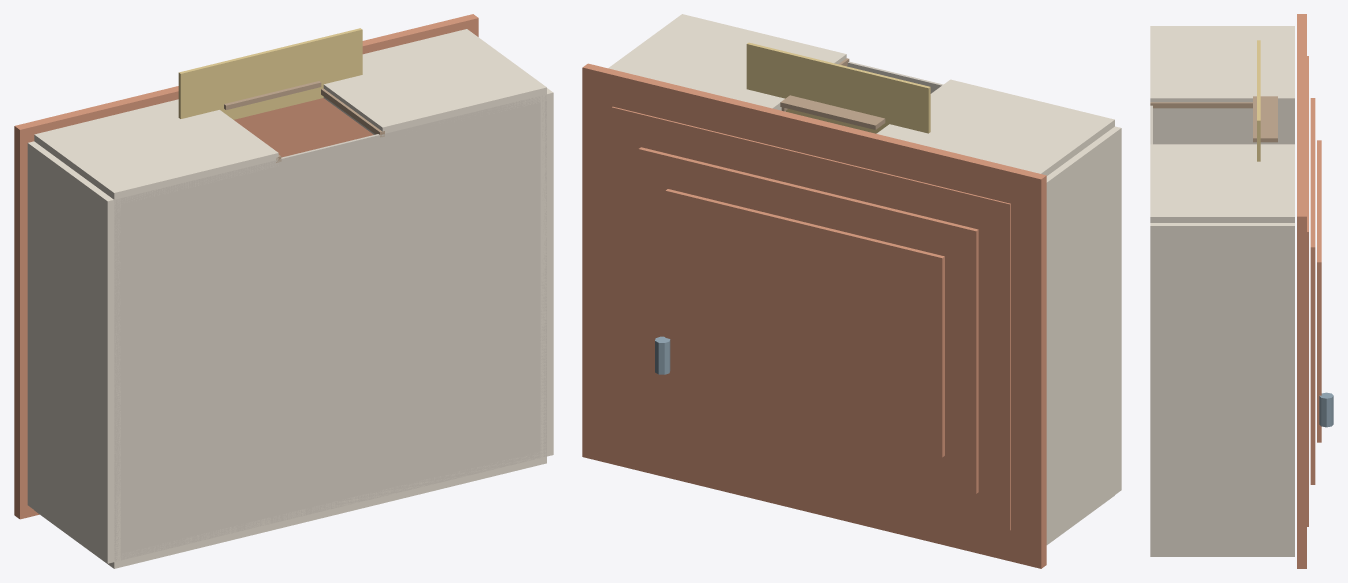
The model's file is building_noodle.glb.
3 renders of one model, left to right at view 1: azimuth 30°, elevation 25°; view 2: azimuth 150°, elevation 25°; view 3: azimuth 270°, elevation 25°, orthographic. The views are drawn at different scales.
Parts seen in each view (by area): view 1: building_noodle_floor, building_noodle_w, building_noodle_s_l, building_noodle_roof, building_noodle_s_r, building_noodle_awning, building_noodle_n, building_noodle_e, building_noodle_tile0, building_noodle_sign; view 2: building_noodle_tile3, building_noodle_roof, building_noodle_tile1, building_noodle_tile2, building_noodle_w, building_noodle_s_l, building_noodle_s_r, building_noodle_awning, building_noodle_tile0, building_noodle_sign; view 3: building_noodle_e, building_noodle_s_r, building_noodle_s_l, building_noodle_roof, building_noodle_w, building_noodle_tile2, building_noodle_tile3, building_noodle_tile0, building_noodle_sign, building_noodle_tile1, building_noodle_jamb_l, building_noodle_vent (+2 smaller).
Boxes of the visible parts, x1,y1,x2,y2 form: building_noodle_floor: [114, 95, 546, 561]; building_noodle_w: [27, 141, 120, 563]; building_noodle_s_l: [34, 99, 278, 204]; building_noodle_roof: [14, 14, 478, 519]; building_noodle_s_r: [323, 29, 546, 134]; building_noodle_awning: [178, 28, 362, 119]; building_noodle_n: [34, 451, 546, 568]; building_noodle_e: [540, 88, 553, 457]; building_noodle_tile0: [17, 16, 477, 406]; building_noodle_sign: [224, 81, 321, 109]; building_noodle_tile3: [665, 189, 944, 457]; building_noodle_roof: [582, 63, 1046, 568]; building_noodle_tile1: [611, 106, 1010, 530]; building_noodle_tile2: [638, 147, 978, 493]; building_noodle_w: [1046, 126, 1121, 544]; building_noodle_s_l: [876, 79, 1114, 175]; building_noodle_s_r: [608, 14, 846, 111]; building_noodle_awning: [746, 42, 930, 133]; building_noodle_tile0: [585, 64, 1046, 566]; building_noodle_sign: [780, 95, 885, 129]; building_noodle_e: [1150, 223, 1294, 553]; building_noodle_s_r: [1150, 144, 1294, 222]; building_noodle_s_l: [1150, 26, 1294, 110]; building_noodle_roof: [1297, 14, 1306, 568]; building_noodle_w: [1153, 110, 1294, 144]; building_noodle_tile2: [1310, 98, 1315, 484]; building_noodle_tile3: [1317, 140, 1321, 442]; building_noodle_tile0: [1298, 14, 1302, 568]; building_noodle_sign: [1253, 96, 1277, 142]; building_noodle_tile1: [1307, 56, 1308, 526]; building_noodle_jamb_l: [1150, 102, 1252, 108]; building_noodle_vent: [1319, 392, 1333, 427].
Bounding box in the file's own units: 10.6 × 9.45 × 4.06.
